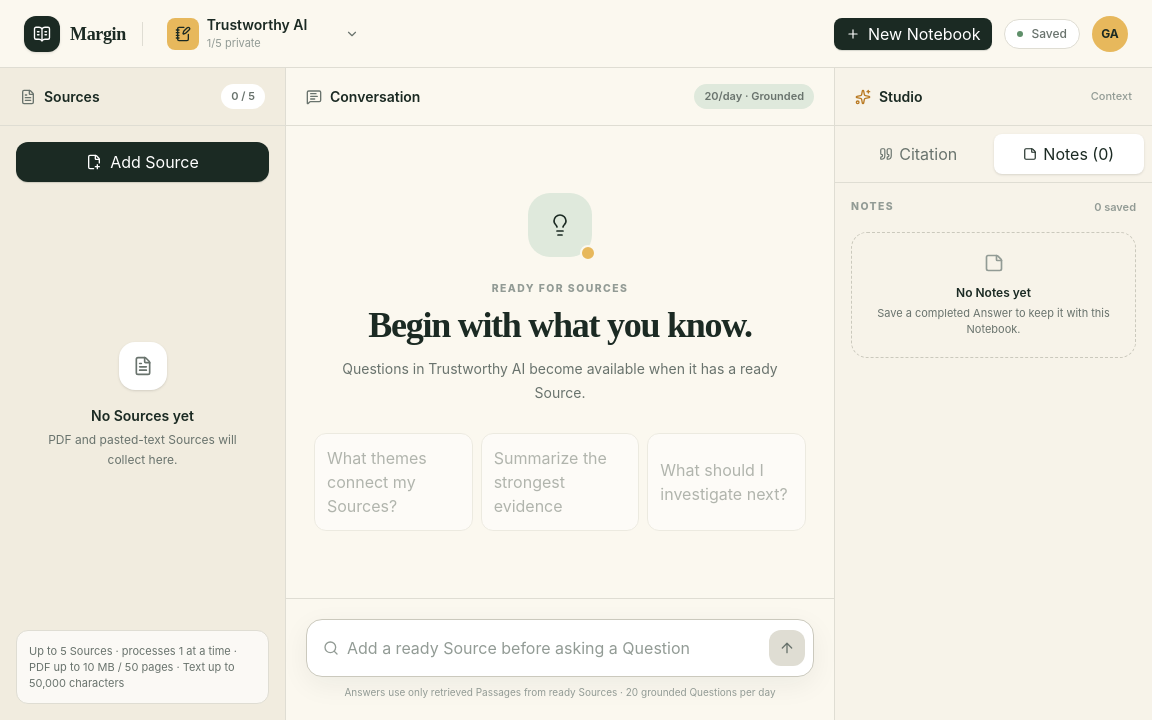
Notebook workspace › switches to multi-PDF upload without changing a controlled input to uncontrolled
Expected: the text "No Sources yet" is shown, [91, 407, 194, 424]
Click the button "Add Source" at x=142, y=162, box [16, 142, 269, 182]
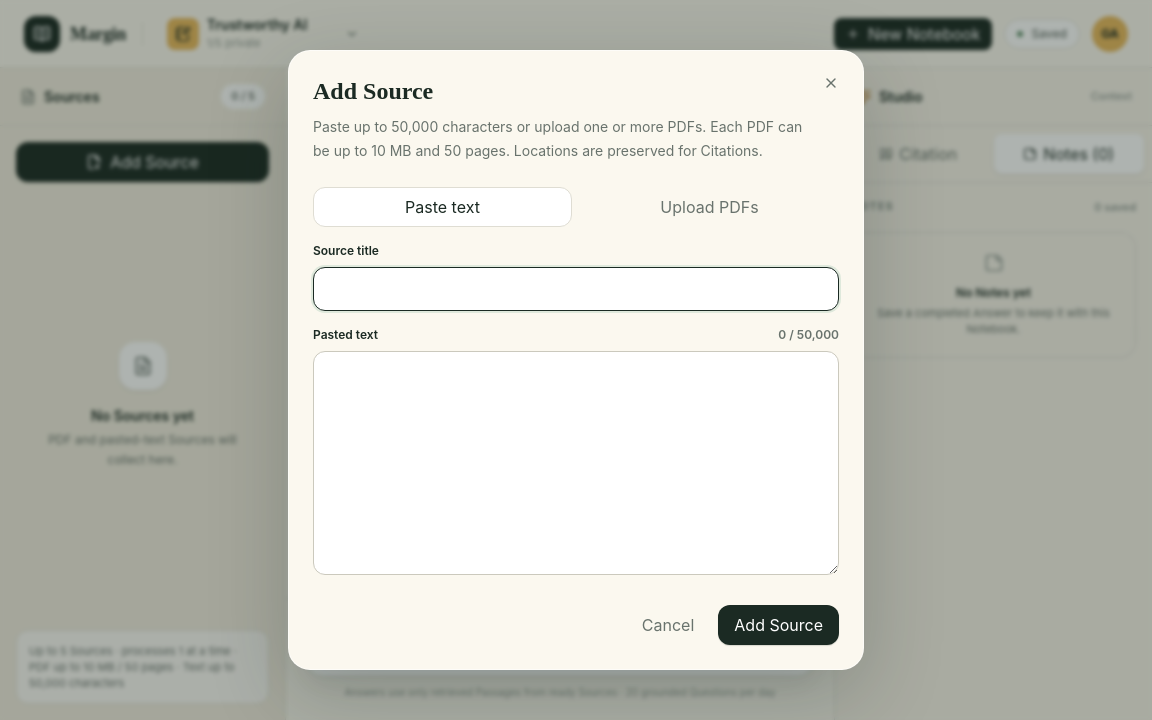
Click the button "Upload PDFs" at x=710, y=207, box [580, 187, 839, 227]
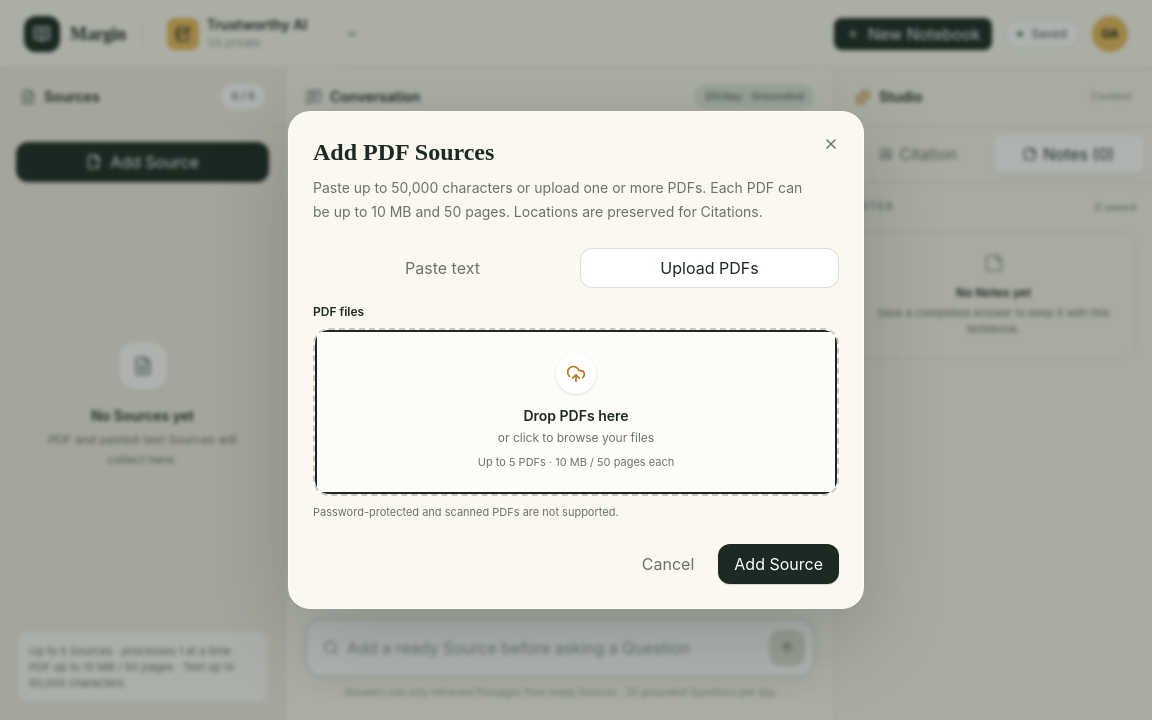
Expected: the label labelled "Source title" is gone
Expected: the label labelled "Pasted text" is gone
